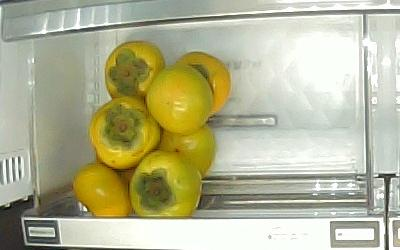persimmon: (91, 95, 161, 172), (145, 62, 215, 133), (130, 150, 204, 217), (175, 51, 231, 115), (105, 41, 165, 100), (71, 163, 130, 217), (158, 125, 216, 178)
